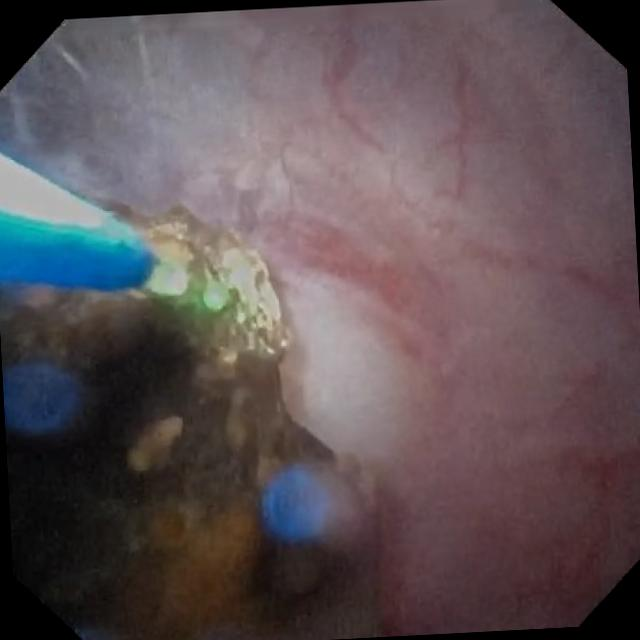laser-fibre: (145, 256, 187, 296)
laser_dot: (205, 280, 227, 311)
stone-new: (0, 201, 378, 640)
